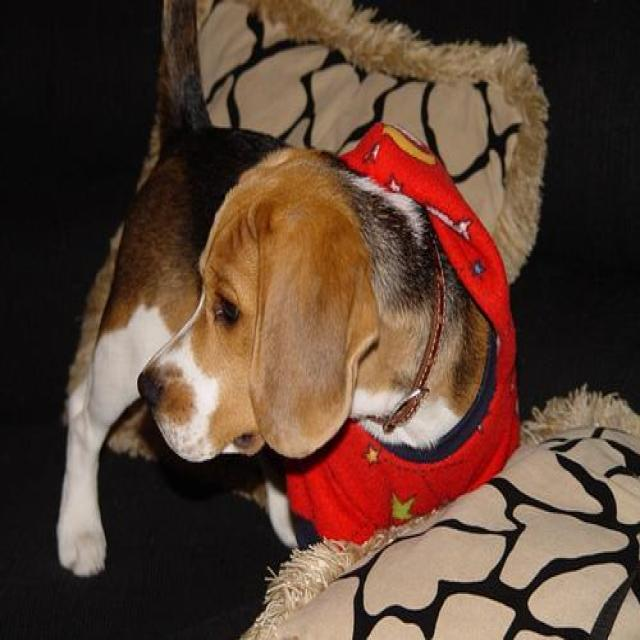beagle: (48, 0, 500, 584)
